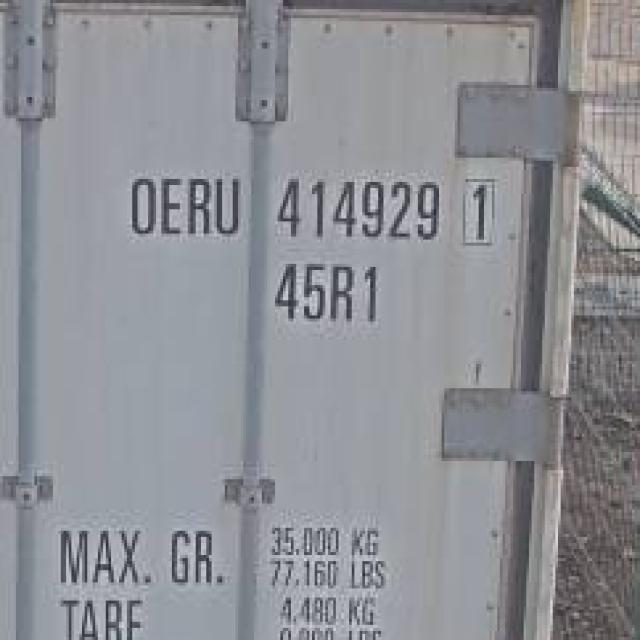dv: (454, 171, 503, 245)
owner: (124, 168, 246, 248)
serial: (273, 166, 447, 250)
size: (269, 257, 385, 331)
